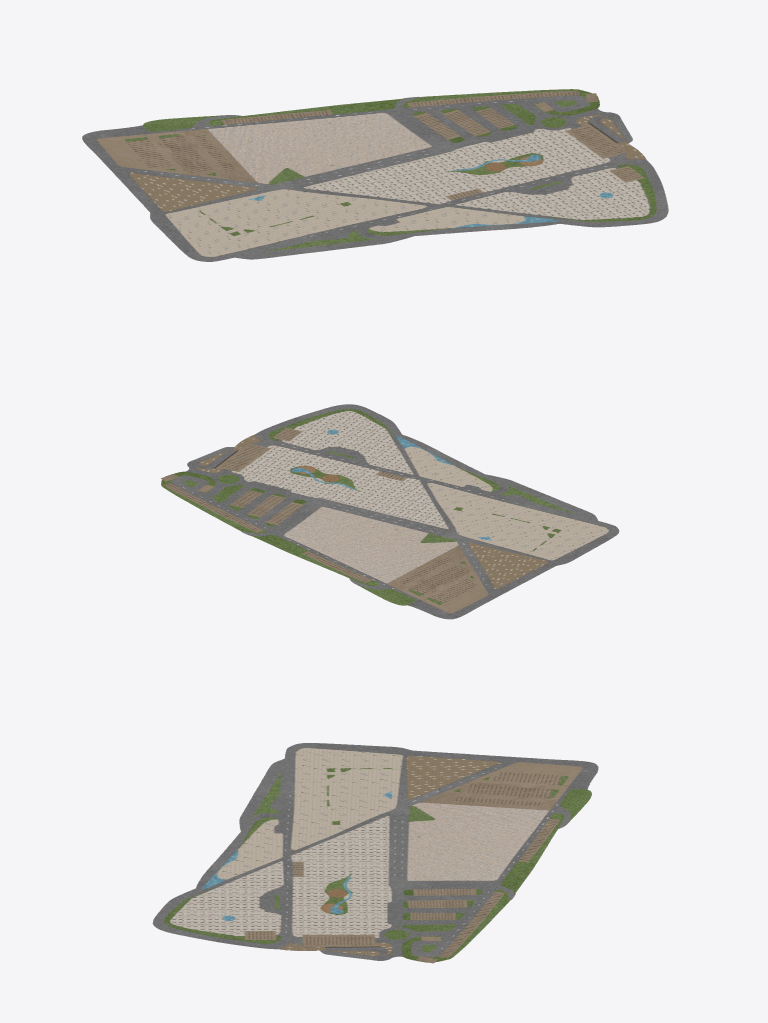
File: FloorGrid.glb
3 views of the same model, one above another, from view 1: azimuth 30°, elevation 25°; view 2: azimuth 150°, elevation 25°; view 3: azimuth 270°, elevation 25° (orthographic). The views are drawn at different scales.
Visible parts, largest first — view 1: Plane; view 2: Plane; view 3: Plane.
Part boxes in pixels (bbox=[...]): Plane: bbox=[82, 89, 668, 261]; Plane: bbox=[161, 404, 619, 619]; Plane: bbox=[152, 743, 598, 963].
Bounding box in the file's own units: 426 × 0 × 426.
Materials: 1 (1 with a texture image).
